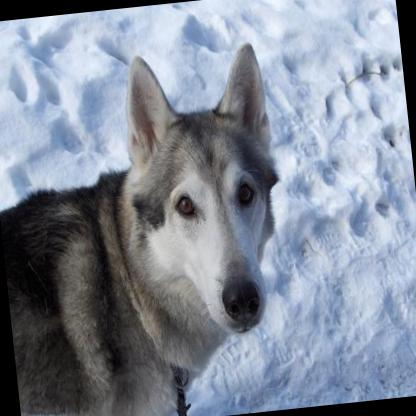Siberian_husky: (0, 38, 302, 416)
